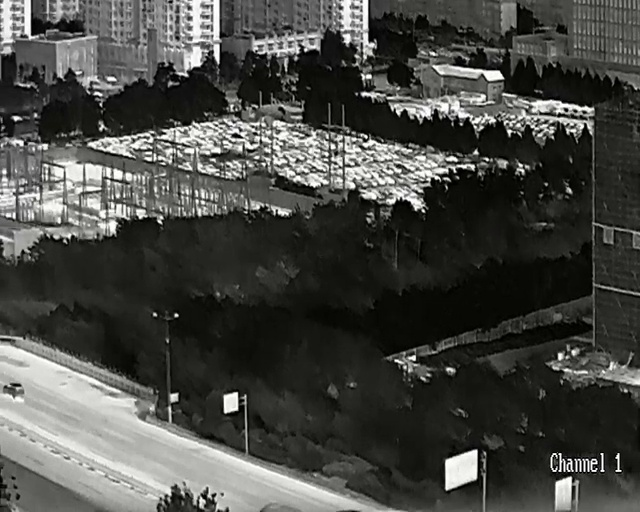uav: (176, 36, 179, 39)
